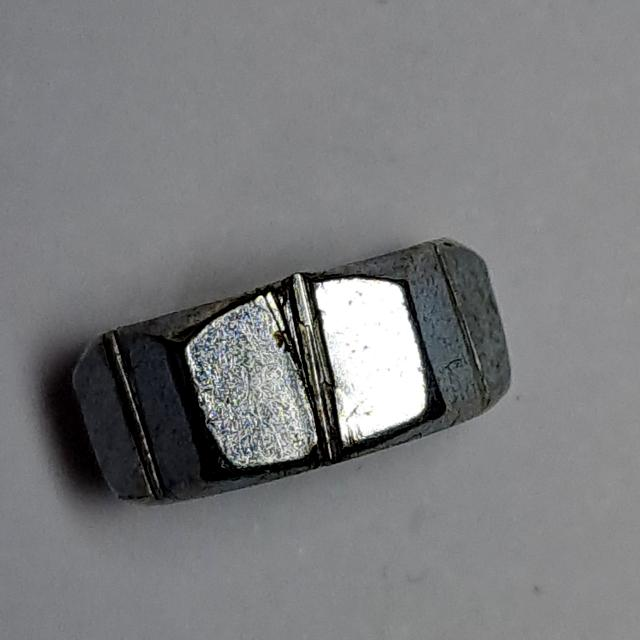Side_Scratches: (66, 229, 531, 521)
